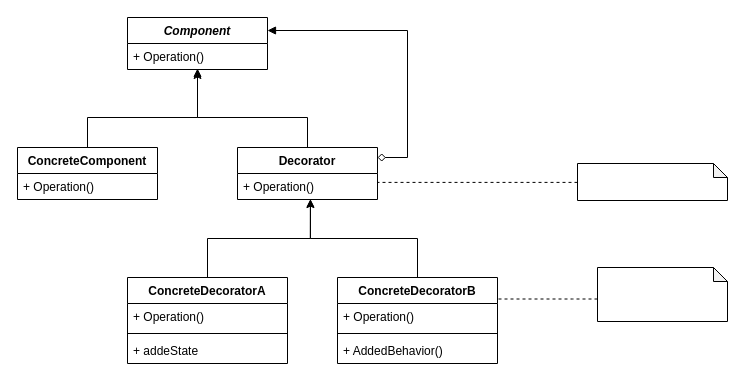
This 745x384 diagram has some shape labels left out. The centre of each missing label's shape, as x and y in pixels:
"component->Operation()" goes at (x=652, y=181).
"Decorator: Operation() AddedBehavior()" goes at (x=662, y=294).
